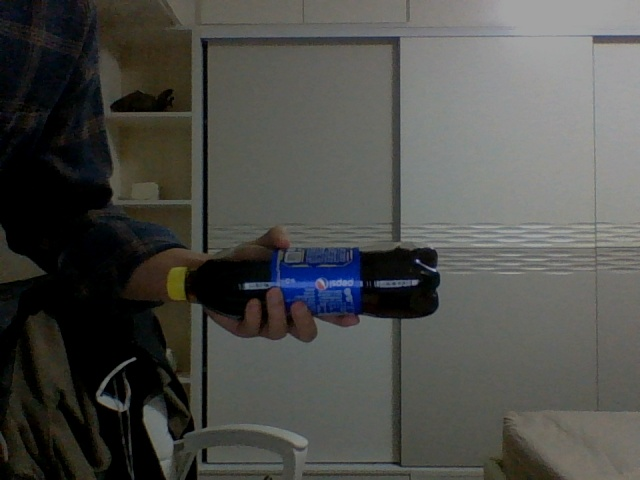Cola: (165, 245, 441, 317)
